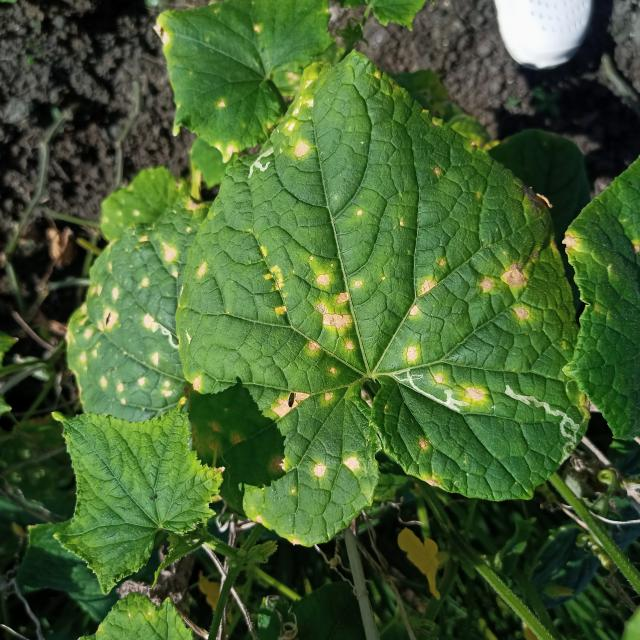disease_cucumber: (186, 239, 556, 480), (66, 197, 182, 413), (276, 81, 315, 161)
